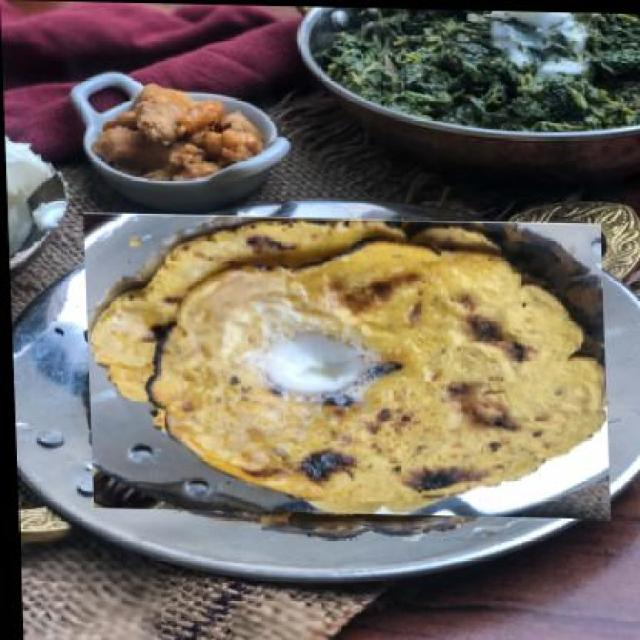chapati: (81, 212, 608, 518)
